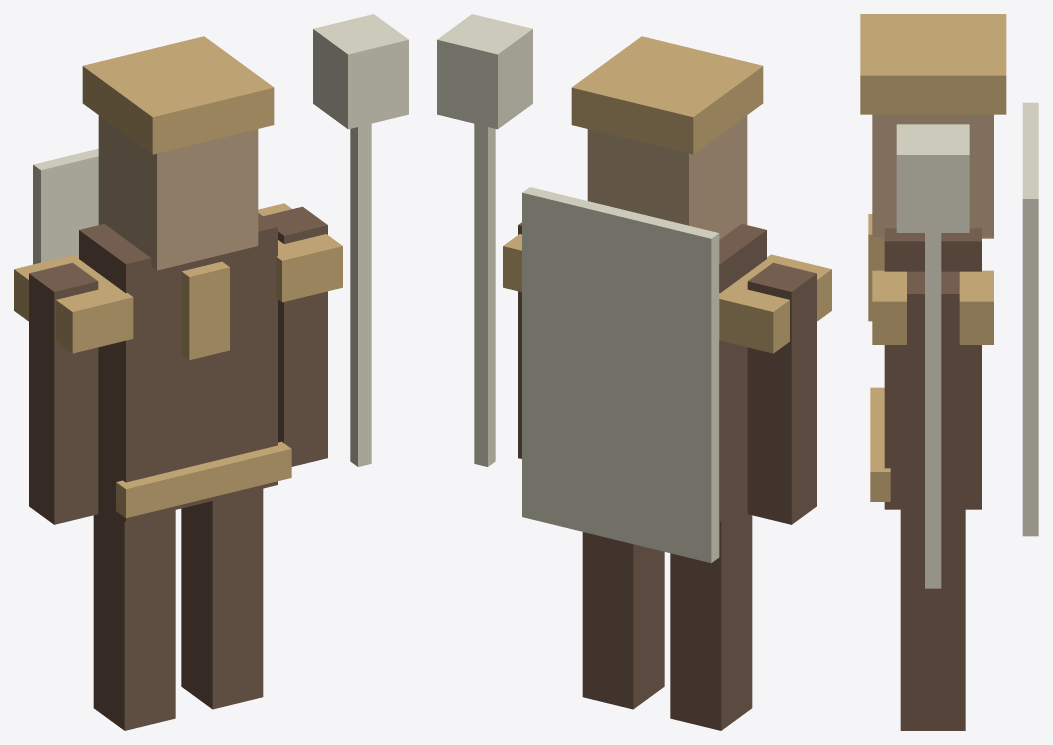
The model's file is 03_juno_cinderholt_fixer_under_simulation.glb.
3 renders of one model, left to right at view 1: azimuth 30°, elevation 25°; view 2: azimuth 150°, elevation 25°; view 3: azimuth 270°, elevation 25°, orthographic. The views are drawn at different scales.
Parts seen in each view (by area): view 1: Juno Cinderholt, Fixer under Simulation; view 2: Juno Cinderholt, Fixer under Simulation; view 3: Juno Cinderholt, Fixer under Simulation.
Boxes of the visible parts, x1,y1,x2,y2 form: Juno Cinderholt, Fixer under Simulation: (14,14,408,730); Juno Cinderholt, Fixer under Simulation: (437,14,831,730); Juno Cinderholt, Fixer under Simulation: (860,14,1038,730).
Bounding box in the file's own units: 0.979 × 1.67 × 0.4162.
